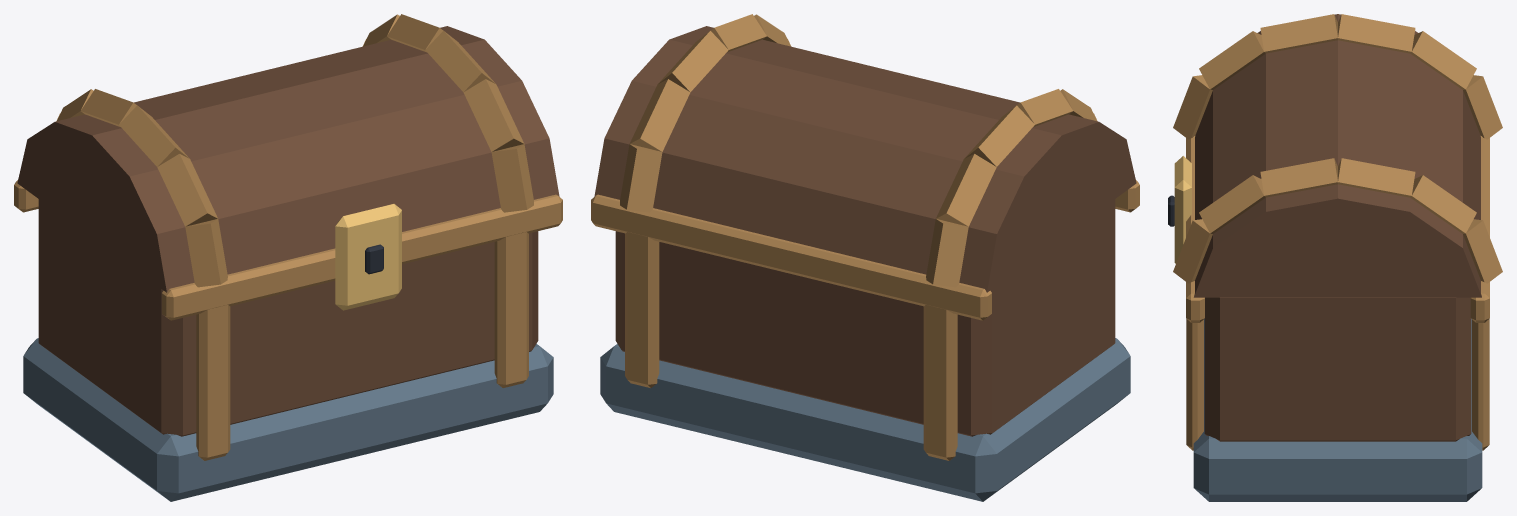
Rendered from chest.glb.
3 views of the same model, side by side, from view 1: azimuth 30°, elevation 25°; view 2: azimuth 150°, elevation 25°; view 3: azimuth 270°, elevation 25° (orthographic). The views are drawn at different scales.
Parts seen in each view (by area): view 1: chest_body_mesh, chest_lid_mesh; view 2: chest_body_mesh, chest_lid_mesh; view 3: chest_lid_mesh, chest_body_mesh.
Boxes of the visible parts, bbox=[...] form: chest_body_mesh: bbox=[14, 179, 562, 501]; chest_lid_mesh: bbox=[17, 14, 559, 310]; chest_body_mesh: bbox=[591, 179, 1139, 501]; chest_lid_mesh: bbox=[594, 14, 1136, 292]; chest_lid_mesh: bbox=[1168, 14, 1502, 297]; chest_body_mesh: bbox=[1186, 136, 1489, 501].
Bounding box in the file's own units: 1.01 × 0.8311 × 0.7667.
